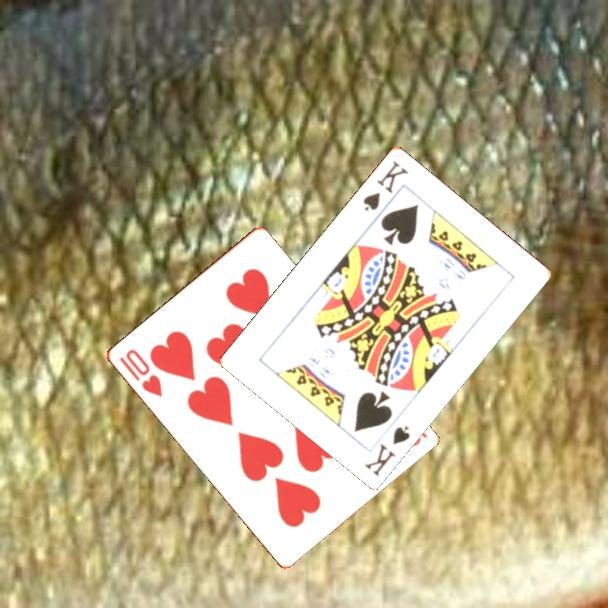h10: (115, 345, 165, 400)
s13: (359, 157, 411, 214), (361, 422, 413, 479)
